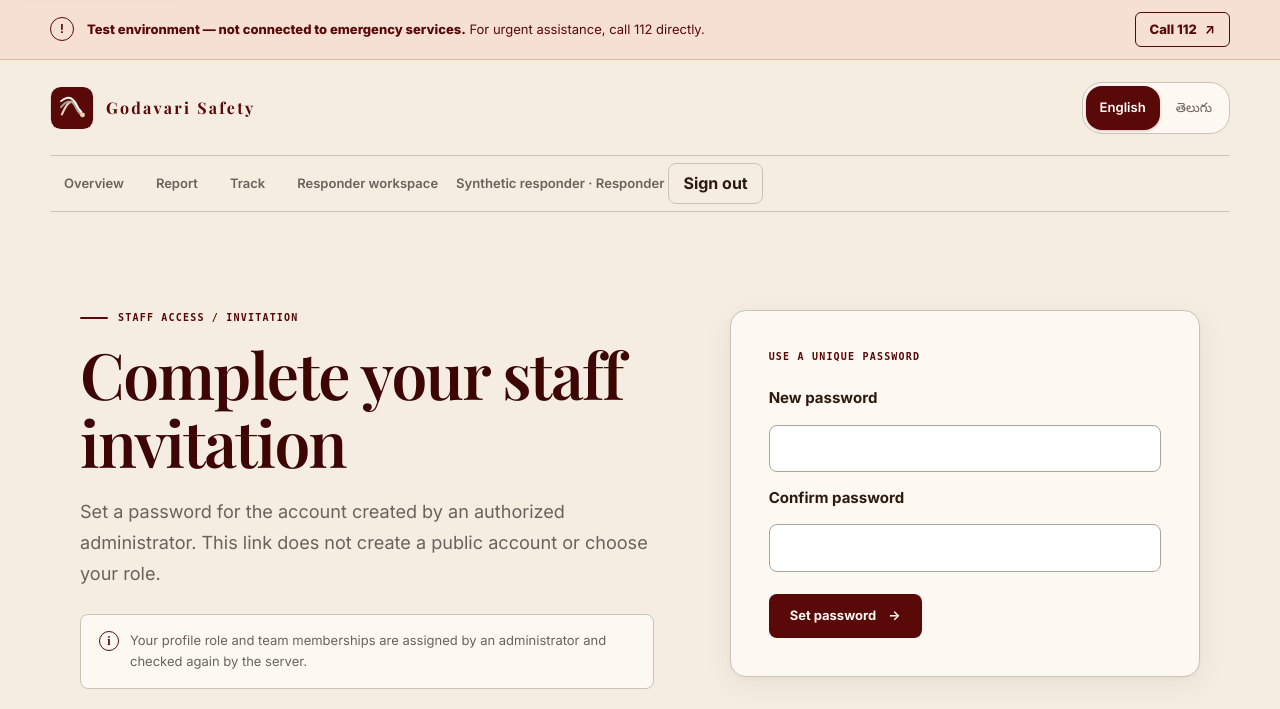
Test case: role-aware staff screens › accepts a password only during a verified, one-time invitation session
This screenshot has width=1280, height=709.
Type "unique-test-password-123" into the password field labelled "New password" at (965, 448), box x1=769 y1=424 x2=1161 y2=472
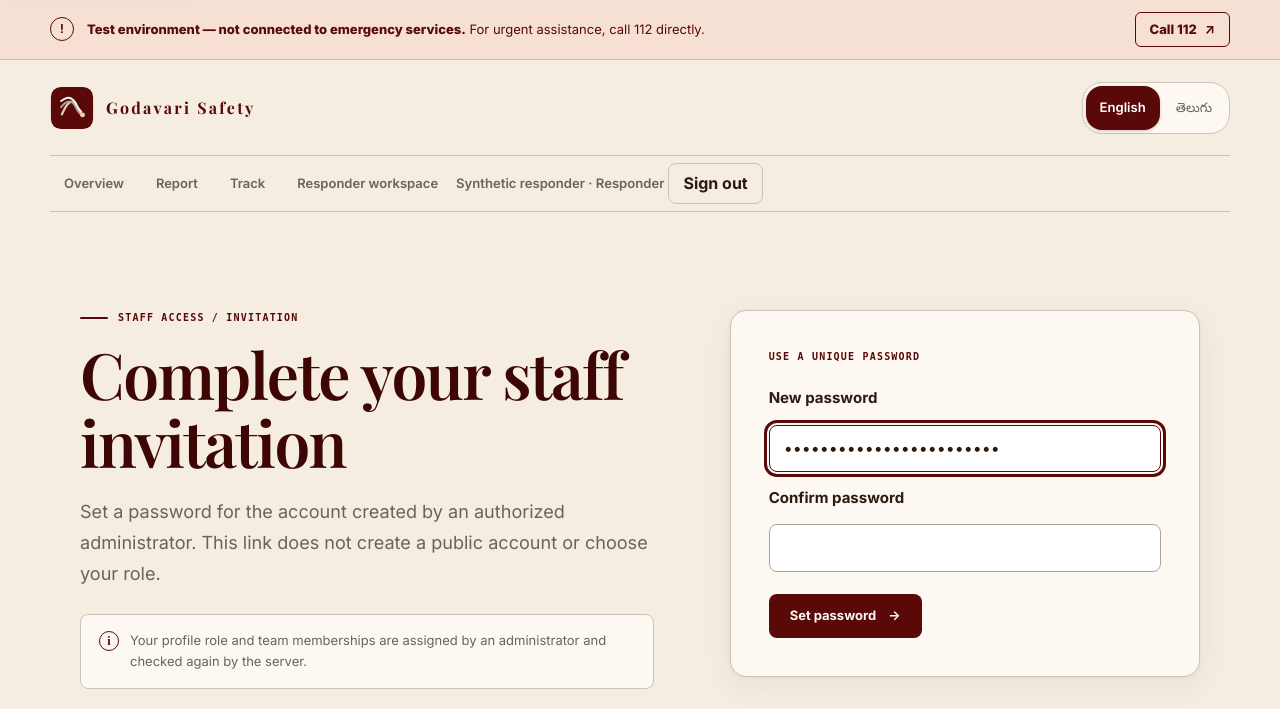
Type "unique-test-password-123" into the password field labelled "Confirm password" at (965, 548), box x1=769 y1=524 x2=1161 y2=572
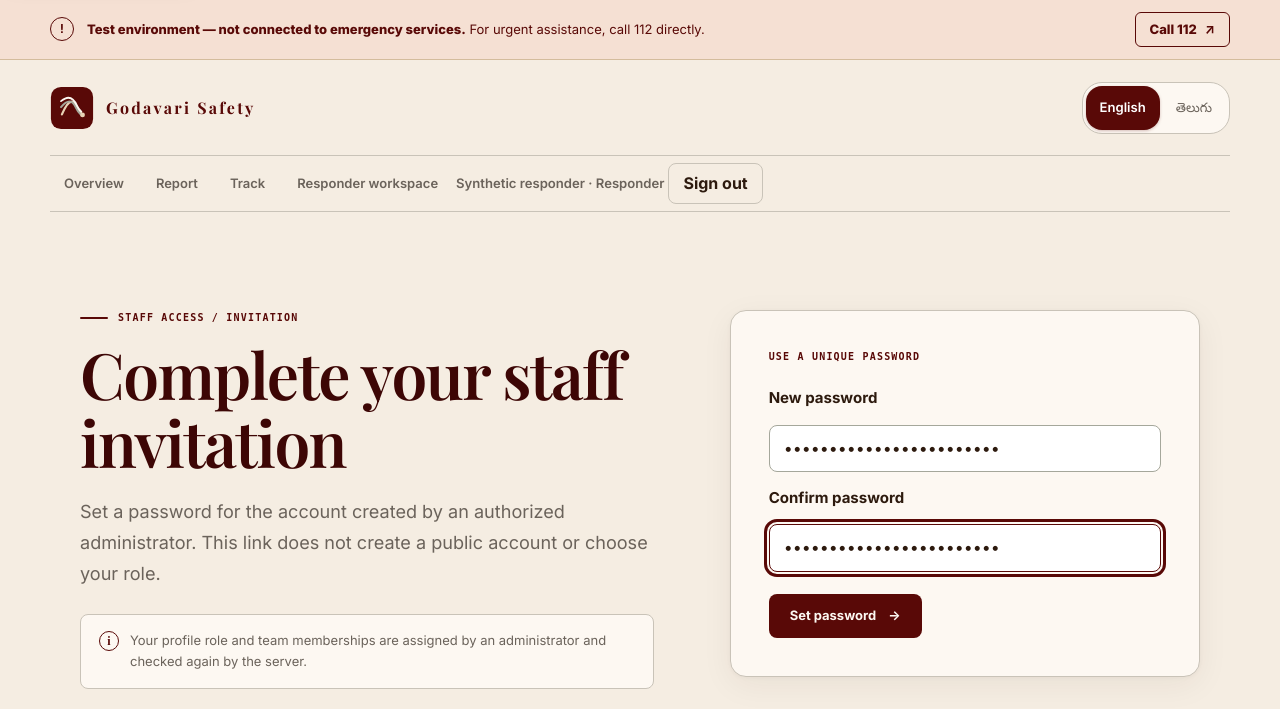
Click the button "Set password →" at (845, 616), box x1=769 y1=594 x2=922 y2=638
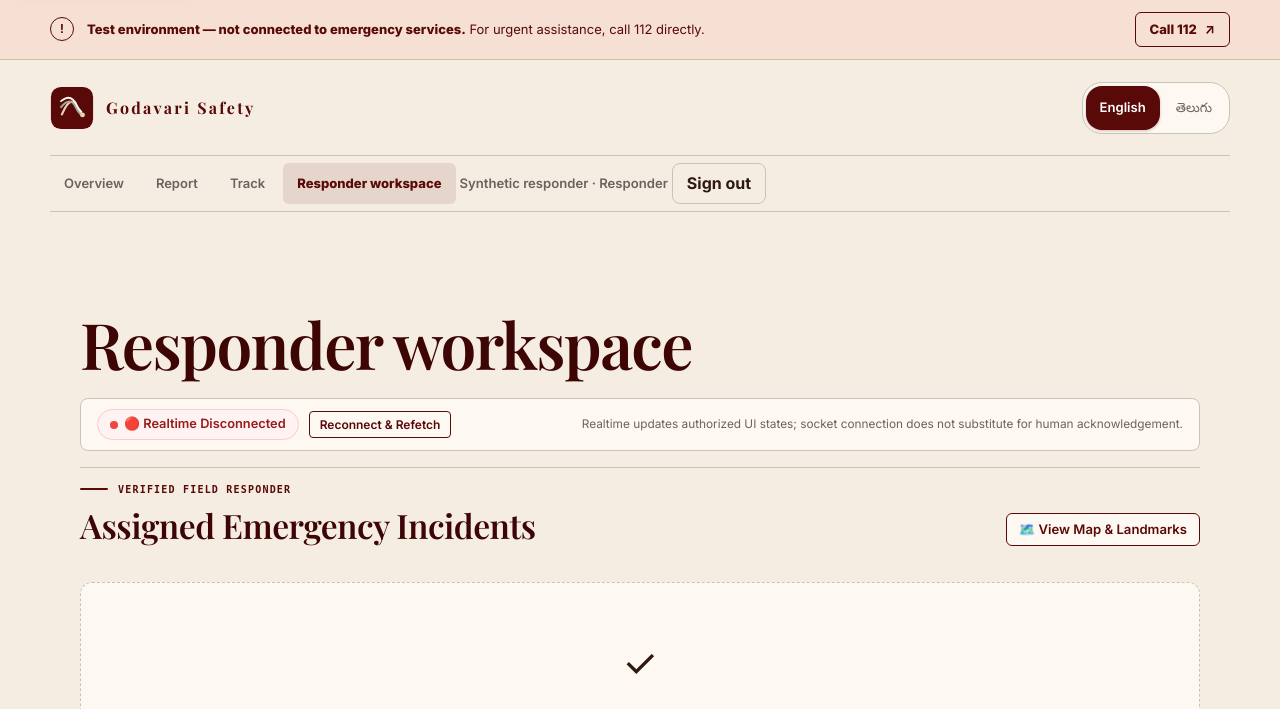
Expected: the heading "Responder workspace" is shown, x1=80 y1=310 x2=765 y2=378
